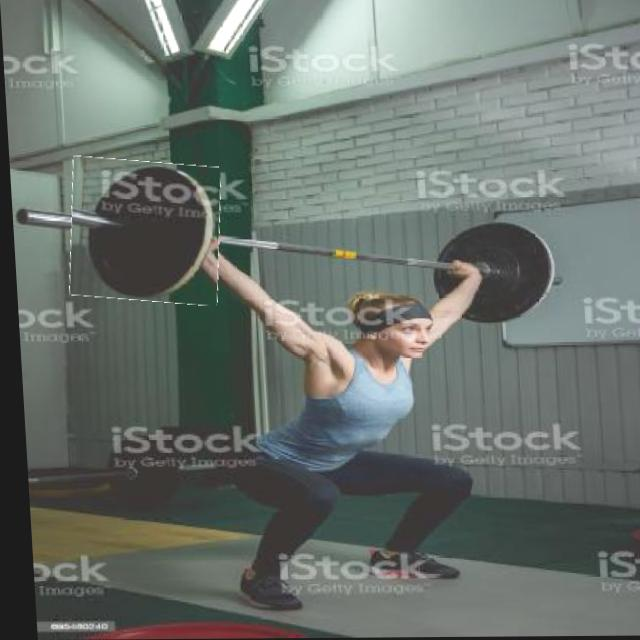barbell: (64, 159, 223, 305)
